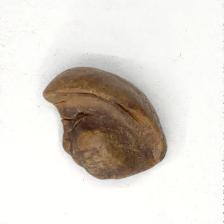NG: (42, 87, 164, 180)
